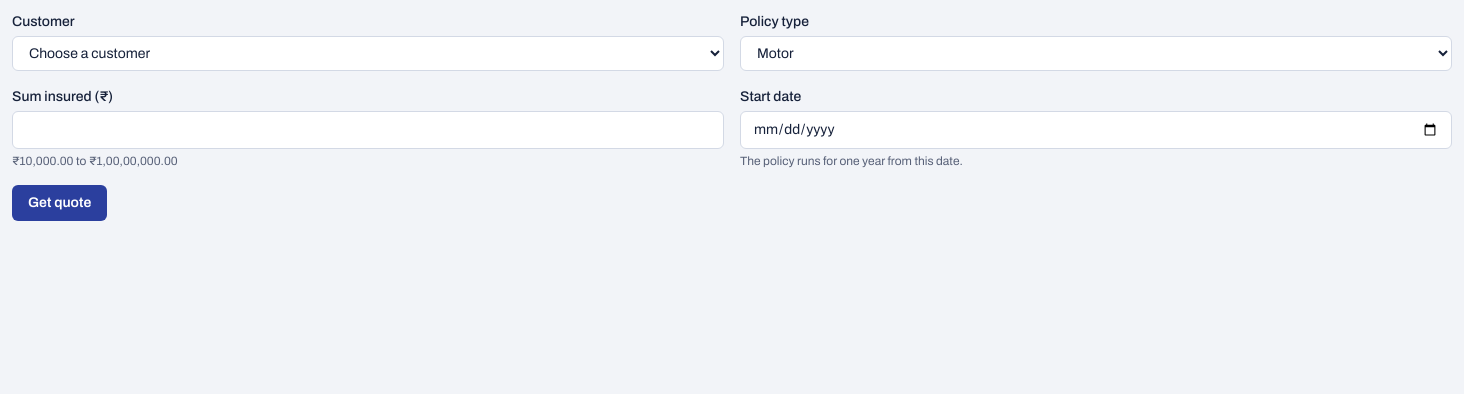
Scenario: PolicyForm quote and issue › lets an adjuster get a quote but offers no way to issue the policy
The width and height of the screenshot is (1464, 394).
Step 1. Select "Nisha Rao" in the dropdown labelled "Customer" → (368, 54), box [12, 36, 724, 71]
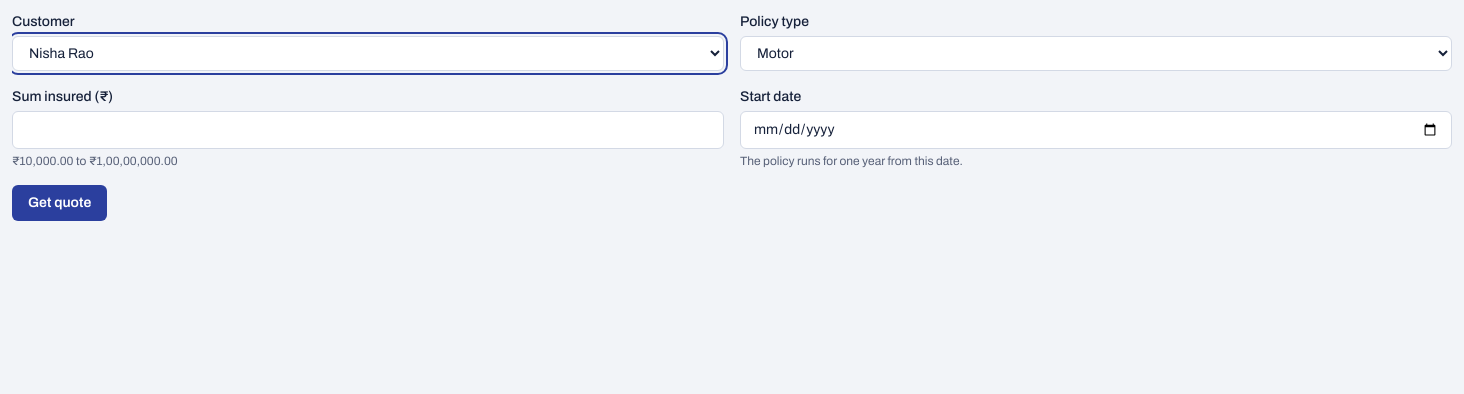
Step 2. Select "Health" in the dropdown labelled "Policy type" → (1096, 54), box [740, 36, 1452, 71]
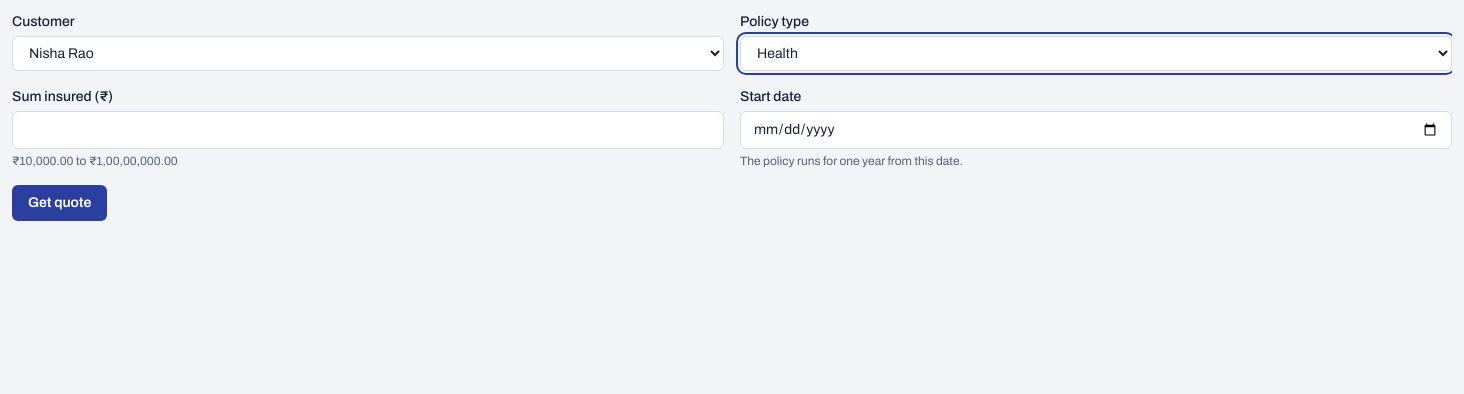
Step 3. Type "500000" into the number field labelled "Sum insured (₹)" → (368, 130), box [12, 111, 724, 149]
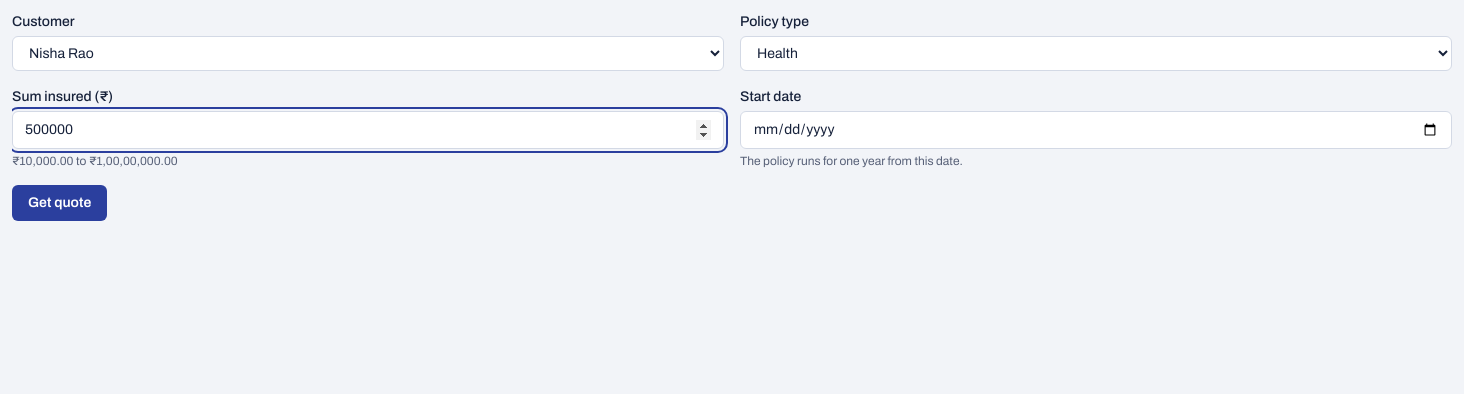
Step 4. Type "2026-11-01" into the date field labelled "Start date" → (1096, 130), box [740, 111, 1452, 149]
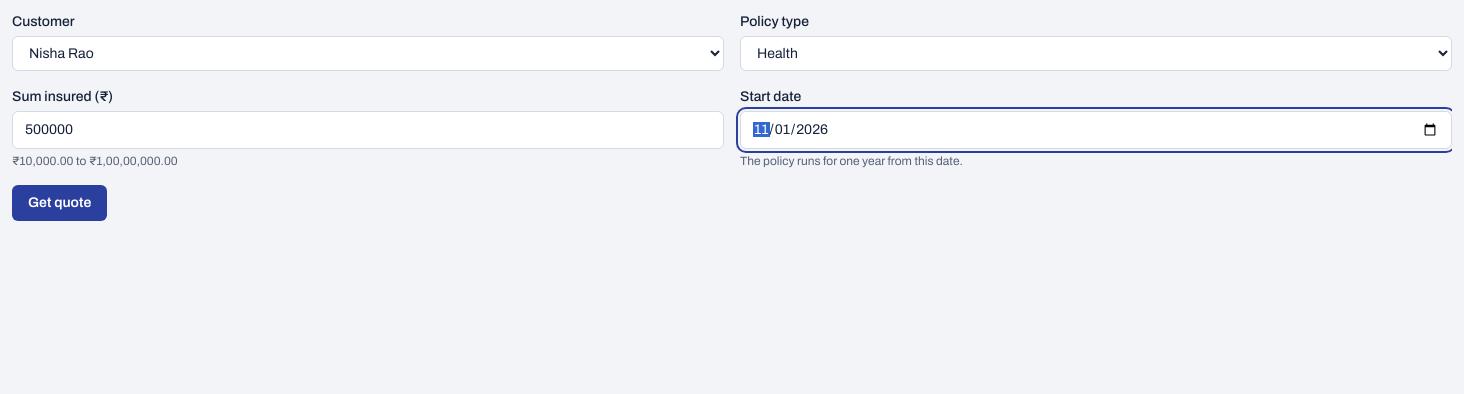
Step 5. Click the button "Get quote" → click(60, 203), box [12, 185, 107, 221]
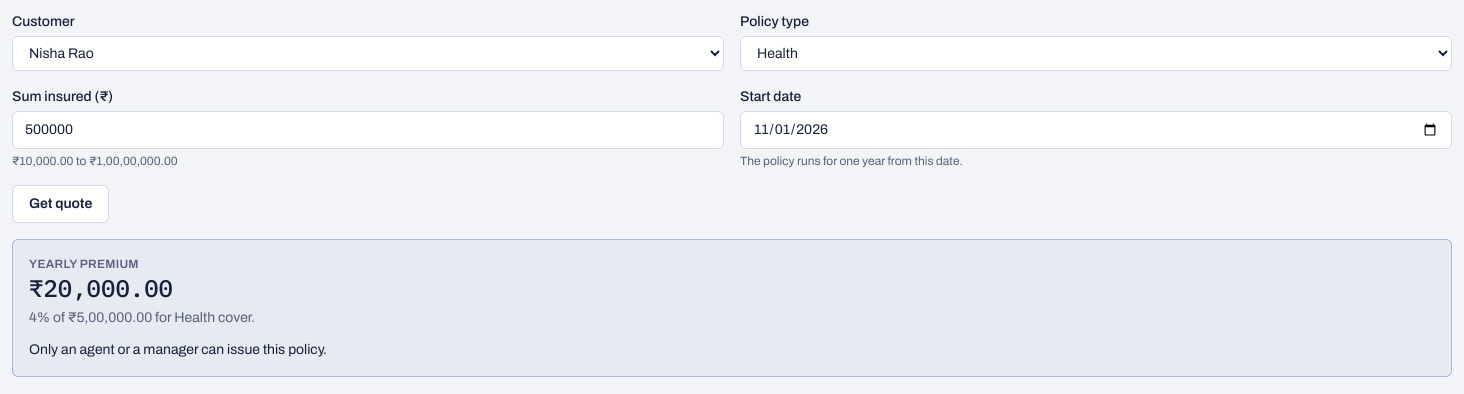
Expected: the element named "Quote" shows "Only an agent or a manager can issue this policy.", [29, 342, 327, 357]
